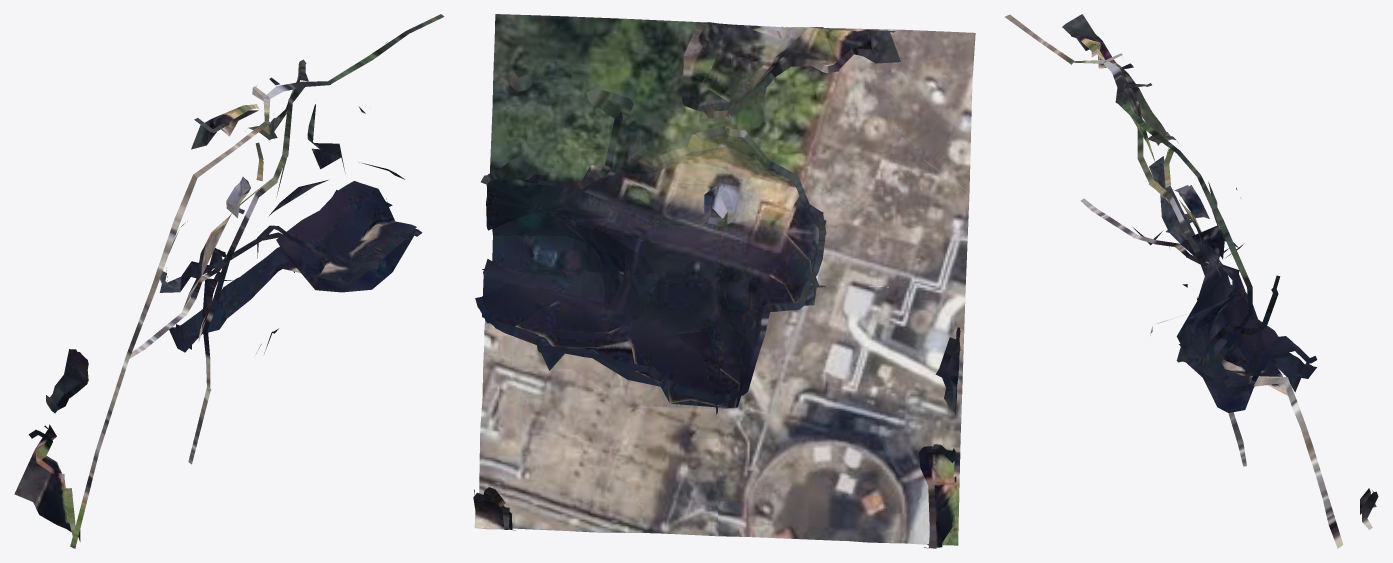
The model's file is AJVsH2zzGqgrll5N-TpjuuRuyJNoGepxPBY_TqCcThV4-78rMgI2UXEzEPSo1xEKu7XrrSfS0L4mIqC-ts95mYXIOOoSSs3G5rHoRHFJ321Xsn8Mfgsqj_mPZ4epYRhny6-vHUqcSmevVbhj0OebG6Oma-5X.glb.
3 renders of one model, left to right at view 1: azimuth 30°, elevation 25°; view 2: azimuth 150°, elevation 25°; view 3: azimuth 270°, elevation 25°, orthographic. The views are drawn at different scales.
Bounding box in the file's own units: 38.69 × 37.93 × 30.53.
1 material, 1 textured.
